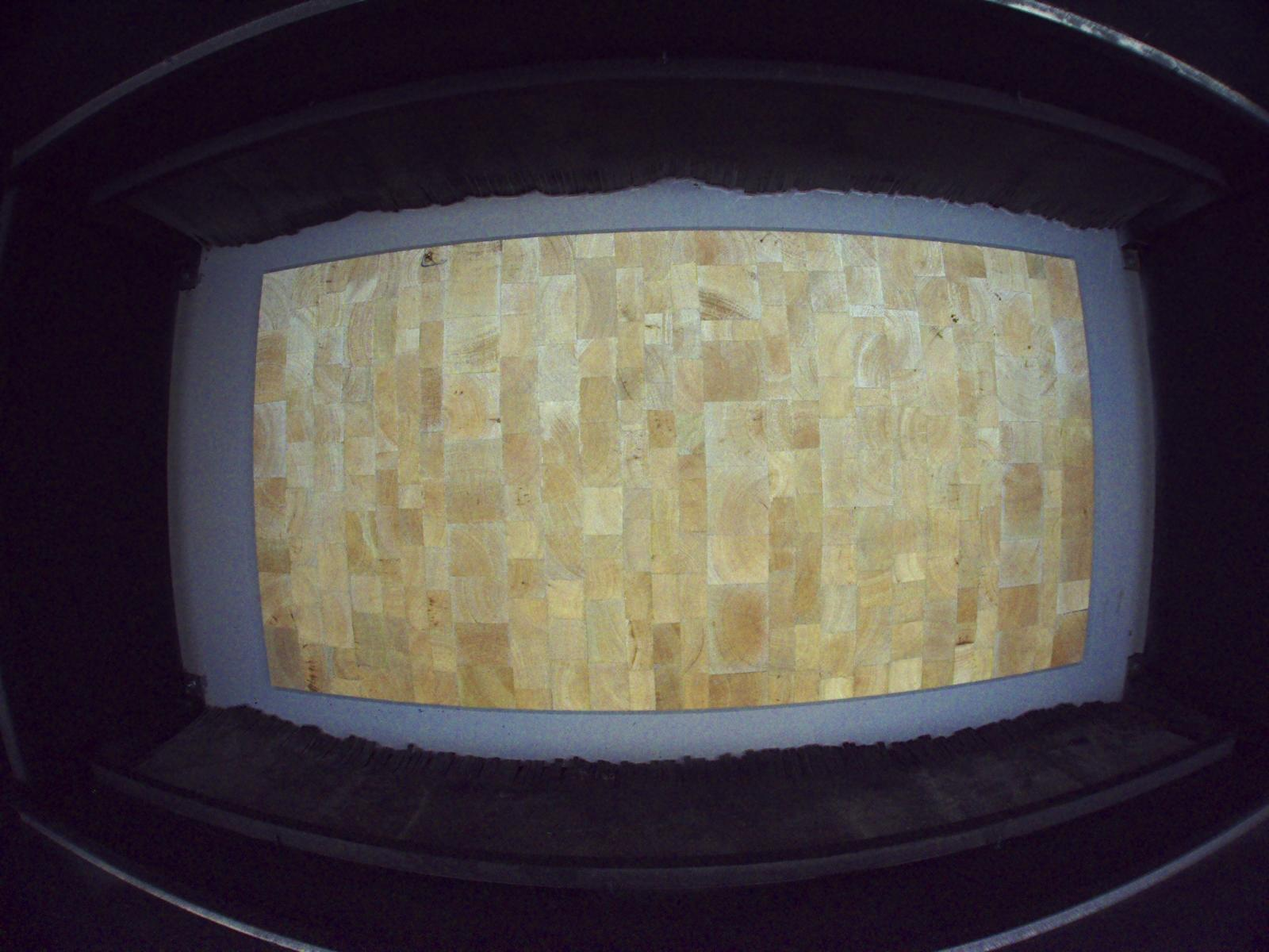nudillo: (422, 251, 436, 264)
